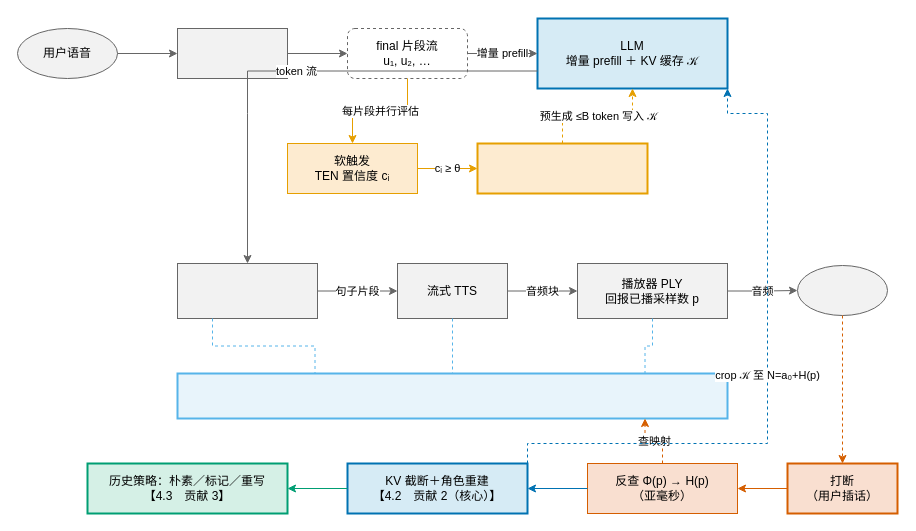
Image size: 916x531. Some labels were removed from this diagram. Each missing label, with the box of its shape:
推测生成（可作废） 【4.1 贡献 1】: (476, 142, 648, 194)
播放时间轴 PlaybackTimeline：token ↔ 片段 ↔ 音频块 ↔ 采样区间 四向映射【4.2.1】: (176, 372, 728, 419)
断句器 CHK token→片段区间: (176, 262, 318, 318)
流式 ASR: (176, 28, 288, 78)
用户: (796, 264, 888, 316)
